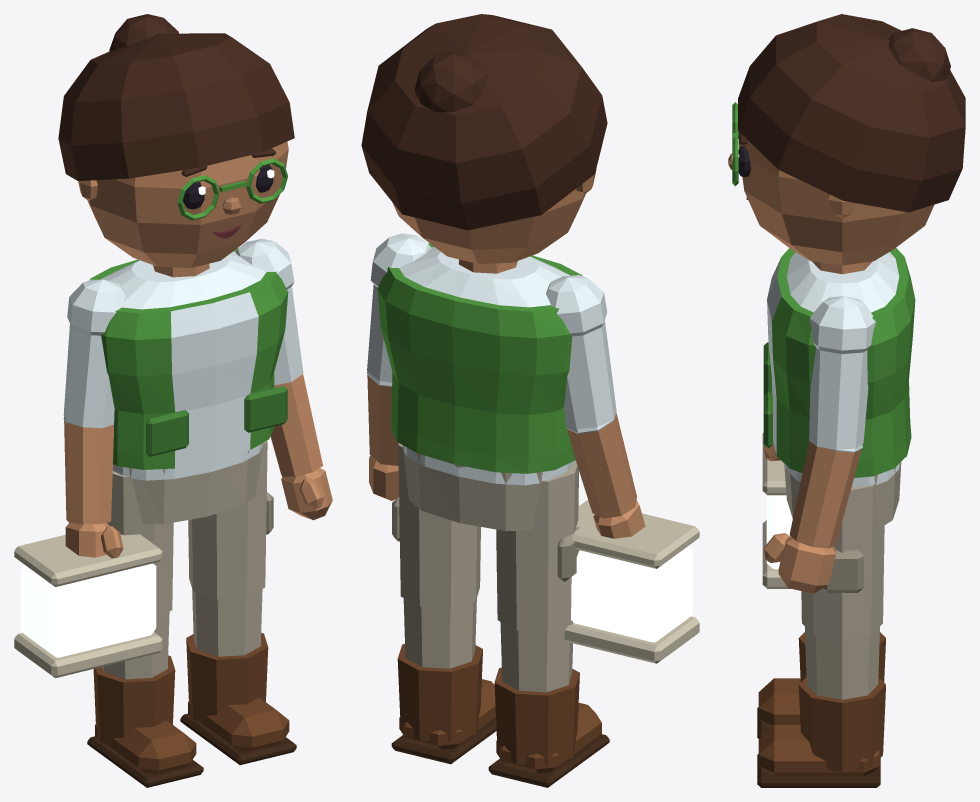
Rendered from ver-k1.glb.
3 views of the same model, side by side, from view 1: azimuth 30°, elevation 25°; view 2: azimuth 150°, elevation 25°; view 3: azimuth 270°, elevation 25° (orthographic). The views are drawn at different scales.
Visible parts, largest first — view 1: haare, weste, gegenstand_plantbox, kopf, bein_l, arm_r, schuh_l, schuh_r, torso, arm_l, becken, bein_r (+4 smaller); view 2: haare, weste, gegenstand_plantbox, bein_r, bein_l, arm_r, schuh_r, schuh_l, torso, becken, kopf, arm_l (+2 smaller); view 3: haare, weste, arm_l, bein_l, kopf, schuh_l, torso, hand_l, schuh_r, gegenstand_plantbox, becken, gesicht (+2 smaller).
Boxes of the visible parts, x1,y1,x2,y2 form: haare: (58,14,294,180); weste: (90,248,288,469); gegenstand_plantbox: (14,534,162,678); kopf: (78,141,288,267); bein_l: (188,440,273,656); arm_r: (63,279,125,524); schuh_l: (180,633,296,765); schuh_r: (87,655,203,787); torso: (100,251,266,480); arm_l: (235,238,322,476); becken: (129,443,263,524); bein_r: (102,471,173,679); haare: (361,14,607,230); weste: (377,243,582,473); gegenstand_plantbox: (564,500,699,663); bein_r: (496,461,579,692); bein_l: (392,443,480,668); arm_r: (546,275,636,518); schuh_r: (488,667,609,787); schuh_l: (391,644,496,764); torso: (399,247,575,485); becken: (403,445,542,531); kopf: (392,169,596,263); arm_l: (367,233,431,465); haare: (738,14,965,212); weste: (767,248,915,477); arm_l: (789,296,875,548); bein_l: (801,483,884,699); kopf: (739,140,934,265); schuh_l: (757,677,885,787); torso: (784,252,900,487); hand_l: (764,533,835,593); schuh_r: (757,632,885,738); gegenstand_plantbox: (762,433,792,588); becken: (784,462,901,528); gesicht: (728,102,750,199).
Bounding box in the file's own units: 0.0111 × 0.0252 × 0.00753.
